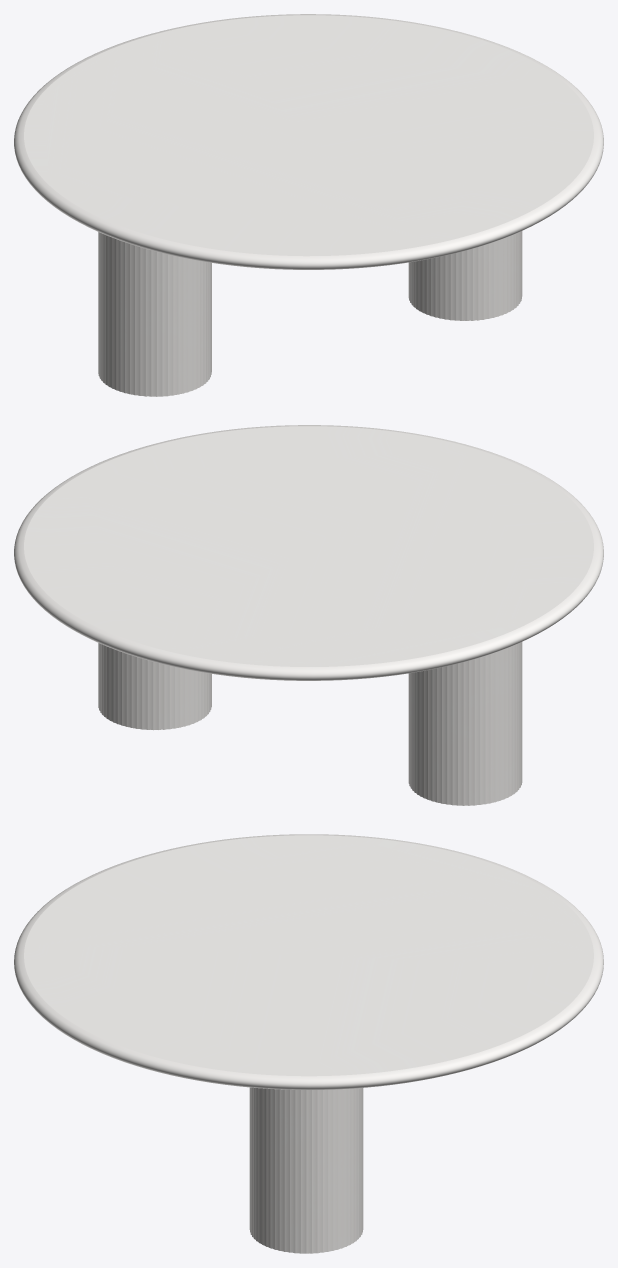
File: purewhite_round_round_ripplesecond.glb
3 renders of one model, top to bottom at view 1: azimuth 30°, elevation 25°; view 2: azimuth 150°, elevation 25°; view 3: azimuth 270°, elevation 25°, orthographic.
Visible parts, largest first — view 1: round_round, ripplesecond; view 2: round_round, ripplesecond; view 3: round_round, ripplesecond.
Part boxes in pixels (x1,y1,x2,y2): round_round: [14, 14, 603, 269]; ripplesecond: [98, 231, 522, 396]; round_round: [14, 425, 603, 680]; ripplesecond: [98, 642, 522, 805]; round_round: [14, 834, 603, 1089]; ripplesecond: [249, 1087, 363, 1253].
Size of the model in its own units: 6.75 by 2.5 by 6.75.
Materials: 1 (1 with a texture image).
